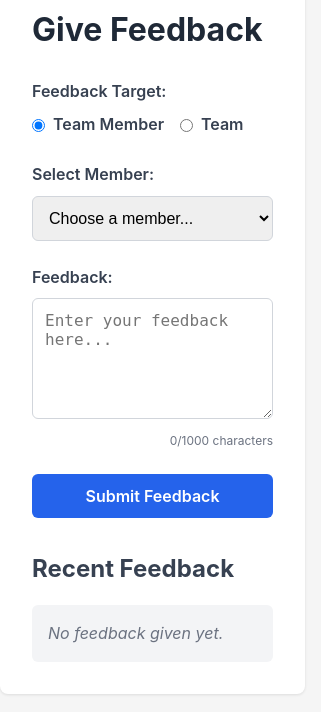
Test case: GiveFeedback › should switch target type when radio button is clicked
Click the radio button labelled "Team": click(186, 125) [180, 119, 193, 132]
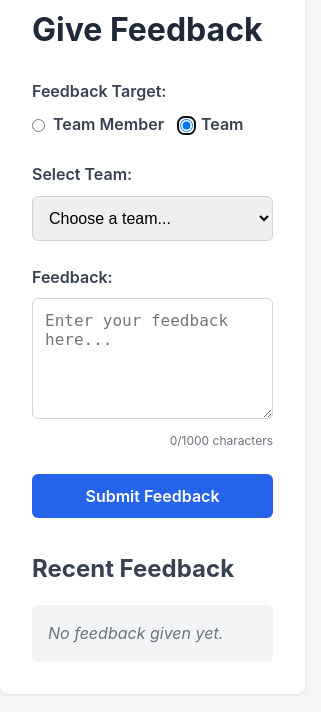
Result: the radio button labelled "Team" is checked at [180, 119, 193, 132]
Result: the radio button labelled "Team Member" is not checked at [32, 119, 45, 132]
